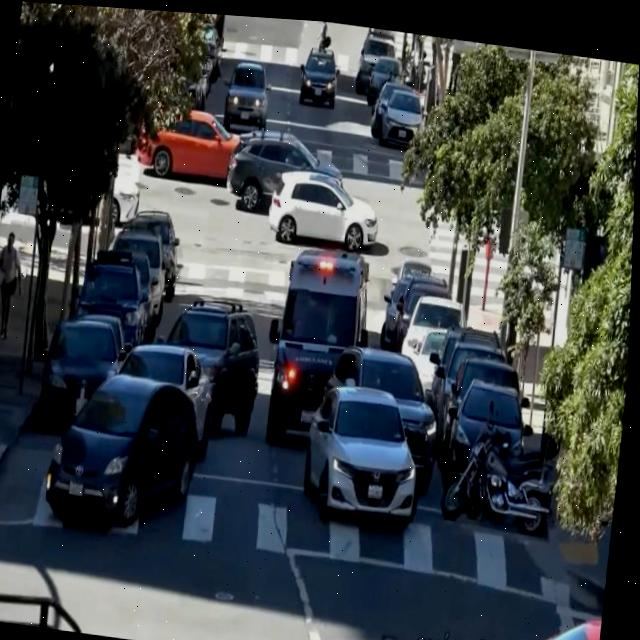emergency: (257, 240, 380, 459)
